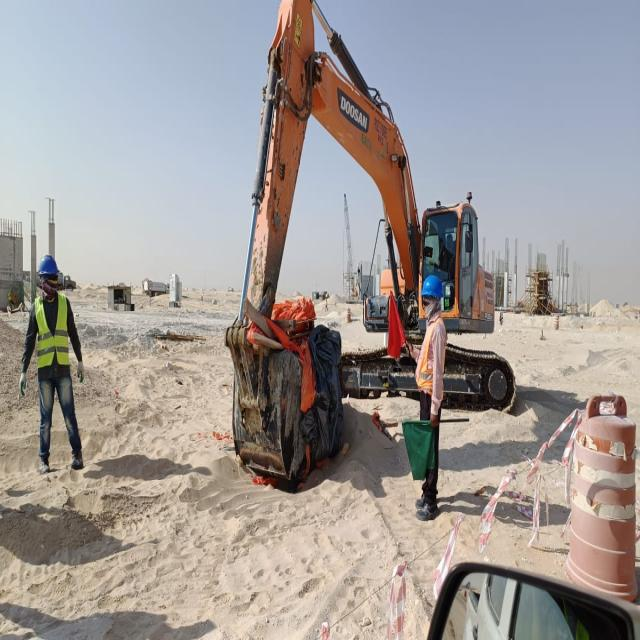Excavator: (223, 1, 514, 498)
